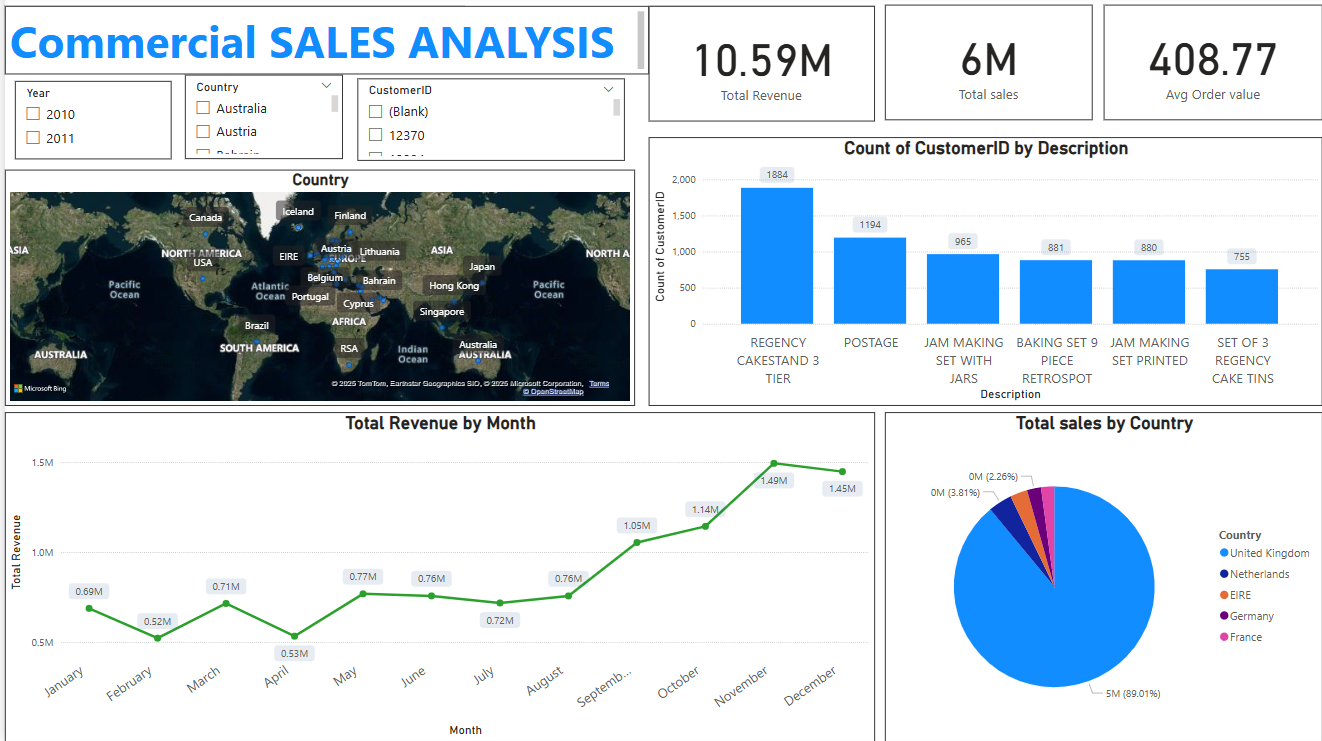

What the dashboard file says about the page in this screenshot:
{"tool":"powerbi","page":{"name":"Page 1","canvas":[1600,900],"ordinal":0},"visuals":[{"type":"textbox","box":[0,12,777,82.3],"z":0},{"type":"lineChart","fields":{"Y":["Online Retail Data Set.Total Revenue"],"Category":["Online Retail Data Set.InvoiceDate.Variation.Date Hierarchy.Month"]},"box":[0,502.6,1049.7,397.9],"z":1000},{"type":"pieChart","fields":{"Y":["Online Retail Data Set.Total sales"],"Category":["Online Retail Data Set.Country"]},"box":[1061.8,502.6,528.3,397.9],"z":2000},{"type":"map","fields":{"Category":["Online Retail Data Set.Country"]},"box":[0,209.3,759.9,284.7],"z":3000},{"type":"columnChart","fields":{"Y":["CountNonNull(Online Retail Data Set.CustomerID)"],"Category":["Online Retail Data Set.Description"]},"box":[777,169.8,813,324.2],"z":4000},{"type":"card","fields":{"Values":["Online Retail Data Set.Total Revenue"]},"box":[777,12,272.7,138.9],"z":5000},{"type":"card","fields":{"Values":["Online Retail Data Set.Total sales"]},"box":[1061.8,10.3,250.4,138.9],"z":6000},{"type":"card","fields":{"Values":["Online Retail Data Set.Avg Order value"]},"box":[1325.9,10.3,264.2,138.9],"z":7000},{"type":"slicer","fields":{"Values":["Online Retail Data Set.InvoiceDate.Variation.Date Hierarchy.Year"]},"box":[12,102.9,188.7,94.3],"z":8000},{"type":"slicer","fields":{"Values":["Online Retail Data Set.Country"]},"box":[217.8,94.3,190.4,101.2],"z":9000},{"type":"slicer","fields":{"Values":["Online Retail Data Set.CustomerID"]},"box":[425.4,99.5,322.5,99.5],"z":10000}]}

Visuals, with their boxes in screenshot pixels (x1, y1, x2, y2), scaled from the page's 1600x900 canvas onto the 1322x741 screenshot:
textbox: locate(0, 10, 642, 78)
lineChart - Online Retail Data Set.Total Revenue x Online Retail Data Set.InvoiceDate.Variation.Date Hierarchy.Month: locate(0, 414, 867, 740)
pieChart - Online Retail Data Set.Total sales x Online Retail Data Set.Country: locate(877, 414, 1314, 740)
map - Online Retail Data Set.Country: locate(0, 172, 628, 407)
columnChart - CountNonNull(Online Retail Data Set.CustomerID) x Online Retail Data Set.Description: locate(642, 140, 1314, 407)
card - Online Retail Data Set.Total Revenue: locate(642, 10, 867, 124)
card - Online Retail Data Set.Total sales: locate(877, 8, 1084, 123)
card - Online Retail Data Set.Avg Order value: locate(1096, 8, 1314, 123)
slicer - Online Retail Data Set.InvoiceDate.Variation.Date Hierarchy.Year: locate(10, 85, 166, 162)
slicer - Online Retail Data Set.Country: locate(180, 78, 337, 161)
slicer - Online Retail Data Set.CustomerID: locate(351, 82, 618, 164)
